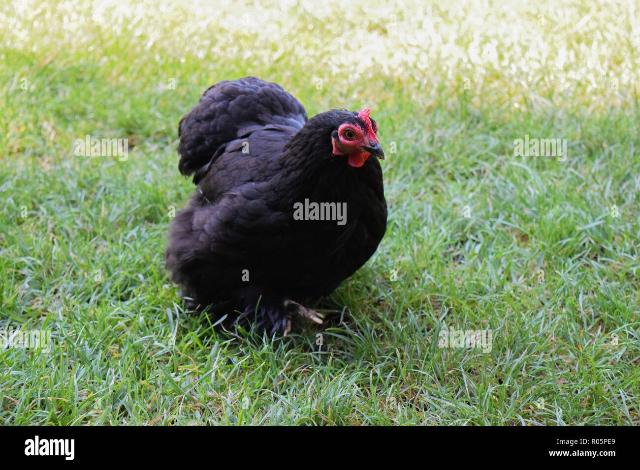Chicken: (167, 76, 388, 326)
